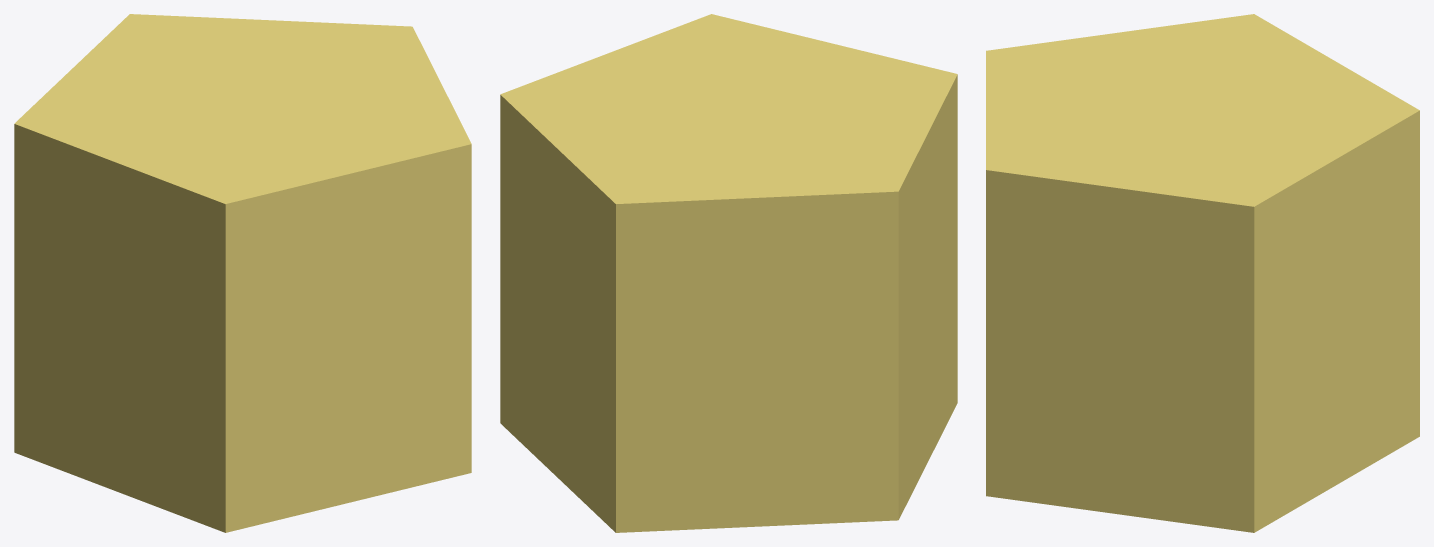
3 renders of one model, left to right at view 1: azimuth 30°, elevation 25°; view 2: azimuth 150°, elevation 25°; view 3: azimuth 270°, elevation 25°, orthographic.
Visible parts, largest first — view 1: 五角柱; view 2: 五角柱; view 3: 五角柱.
Boxes of the visible parts, left/top/right/bottom form: 五角柱: left=14, top=14, right=471, bottom=532; 五角柱: left=500, top=14, right=957, bottom=532; 五角柱: left=986, top=14, right=1419, bottom=532.
Bounding box in the file's own units: 1.9 × 1.5 × 1.81.
